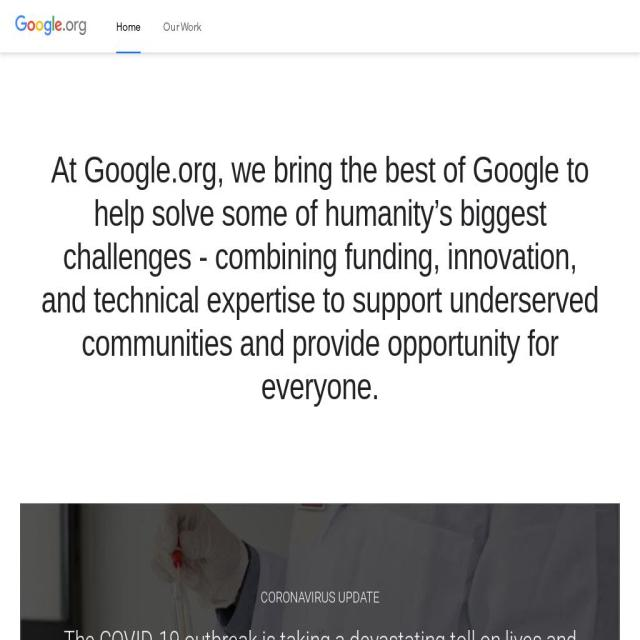button: (15, 0, 86, 50), (116, 7, 192, 41)
heading: (40, 148, 600, 408)
image: (20, 503, 620, 640), (15, 7, 86, 46)
link: (163, 8, 201, 46), (116, 8, 141, 46)
text: (20, 587, 620, 608), (20, 624, 620, 640), (122, 16, 186, 32)
